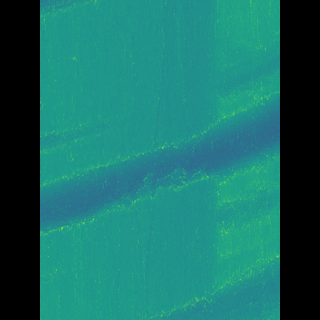Loch: (69, 35, 251, 242), (151, 250, 250, 320)
